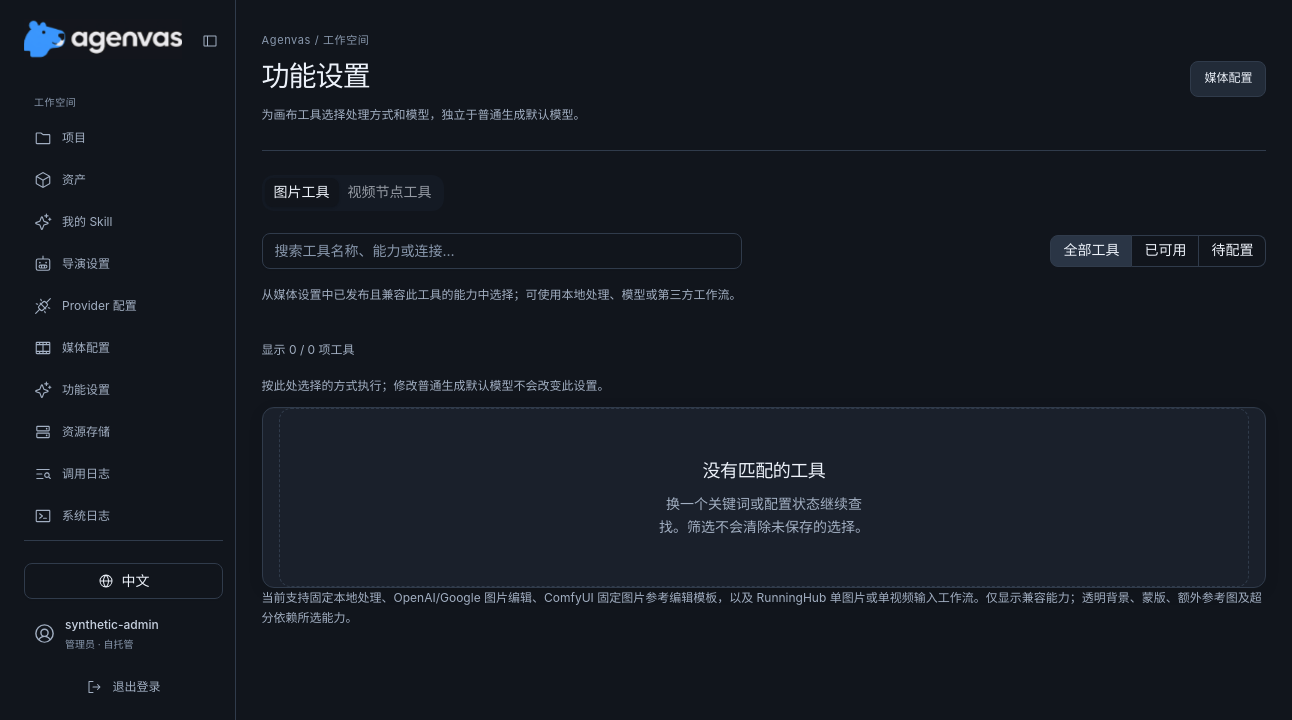
MediaFunctionSettingsPage › saves the compatible workflow with CAS independently of model defaults
Click the tab "视频节点工具" at (390, 193), box [339,178,441,207]
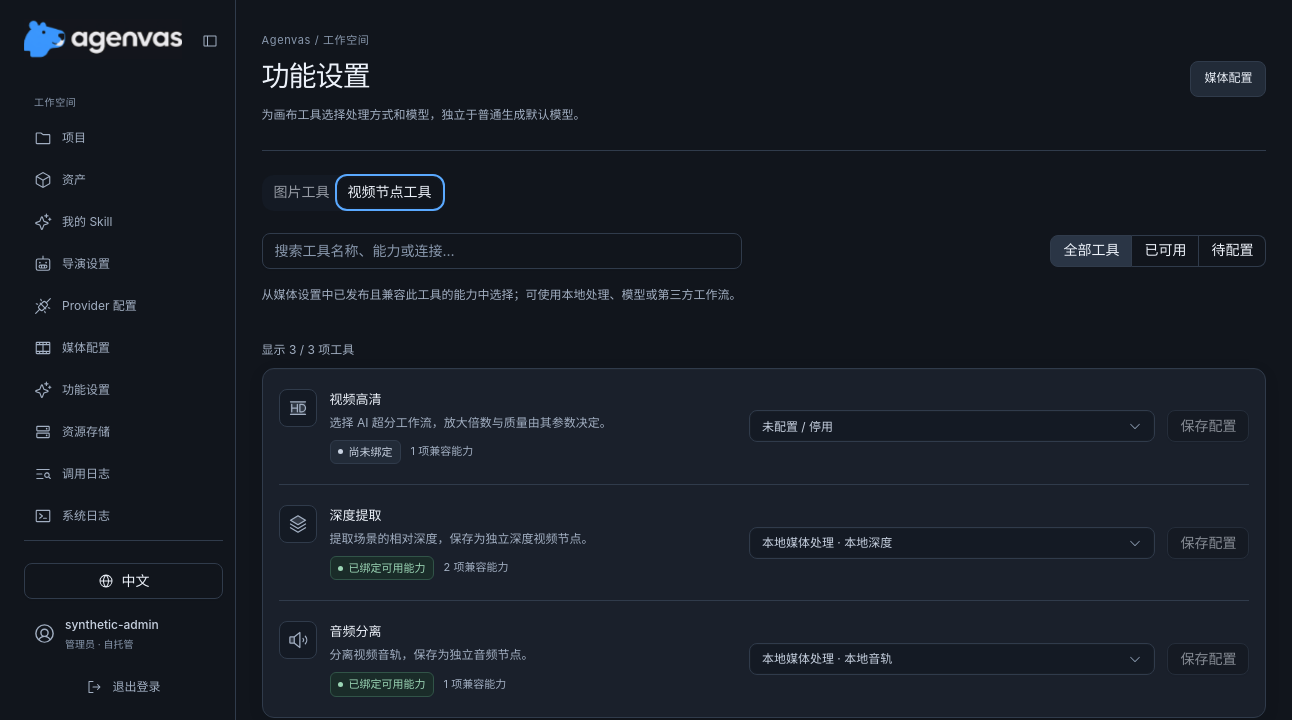
Click the dropdown labelled "未配置 / 停用" at (798, 426), box [749,410,1155,442]
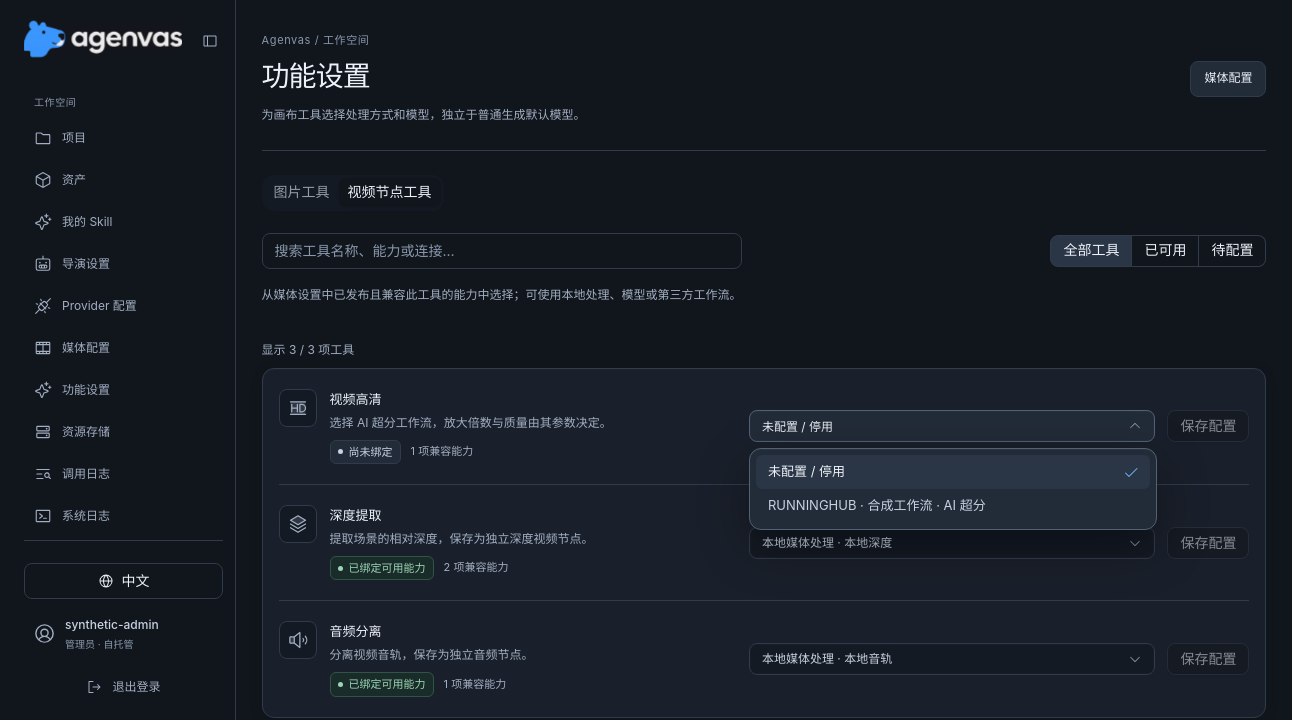
Click the option "RUNNINGHUB · 合成工作流 · AI 超分" at (877, 505), box [768,497,986,513]
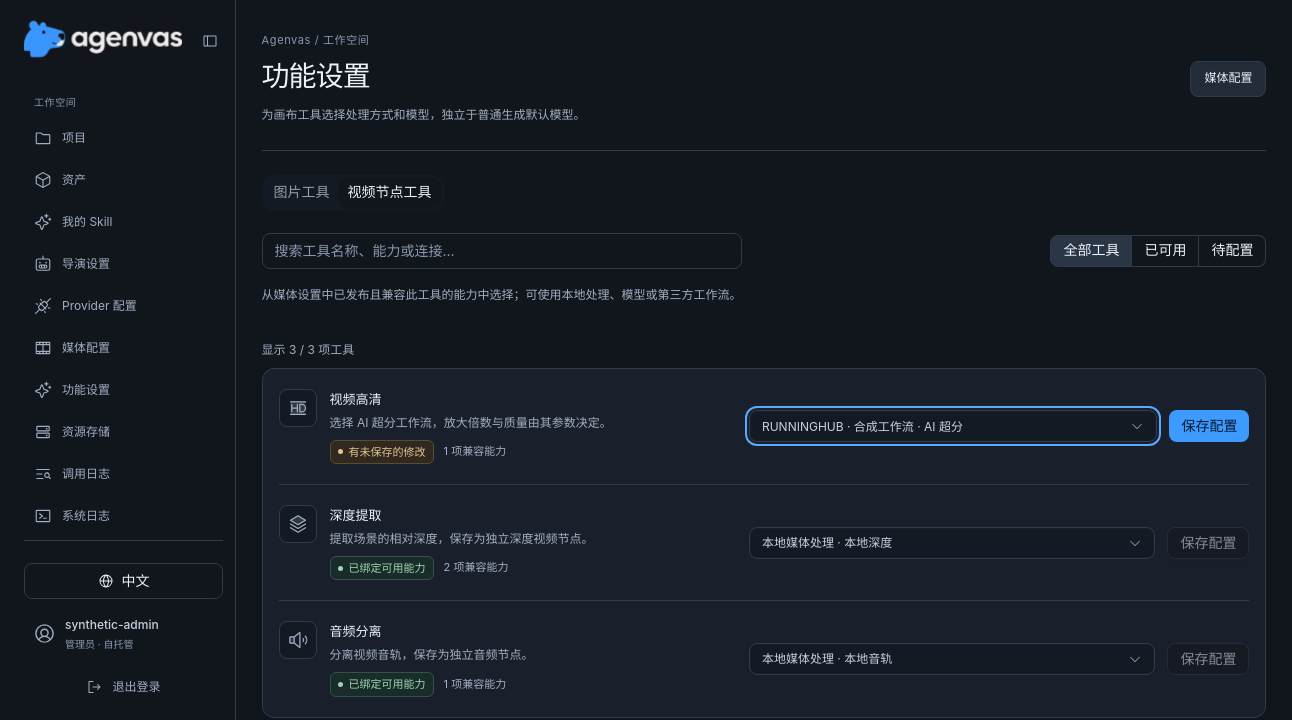
Click the button "保存配置" in the row of "选择 AI 超分工作流，放大倍数与质量由其参数决定。" at (1209, 426), box [1169,410,1249,442]
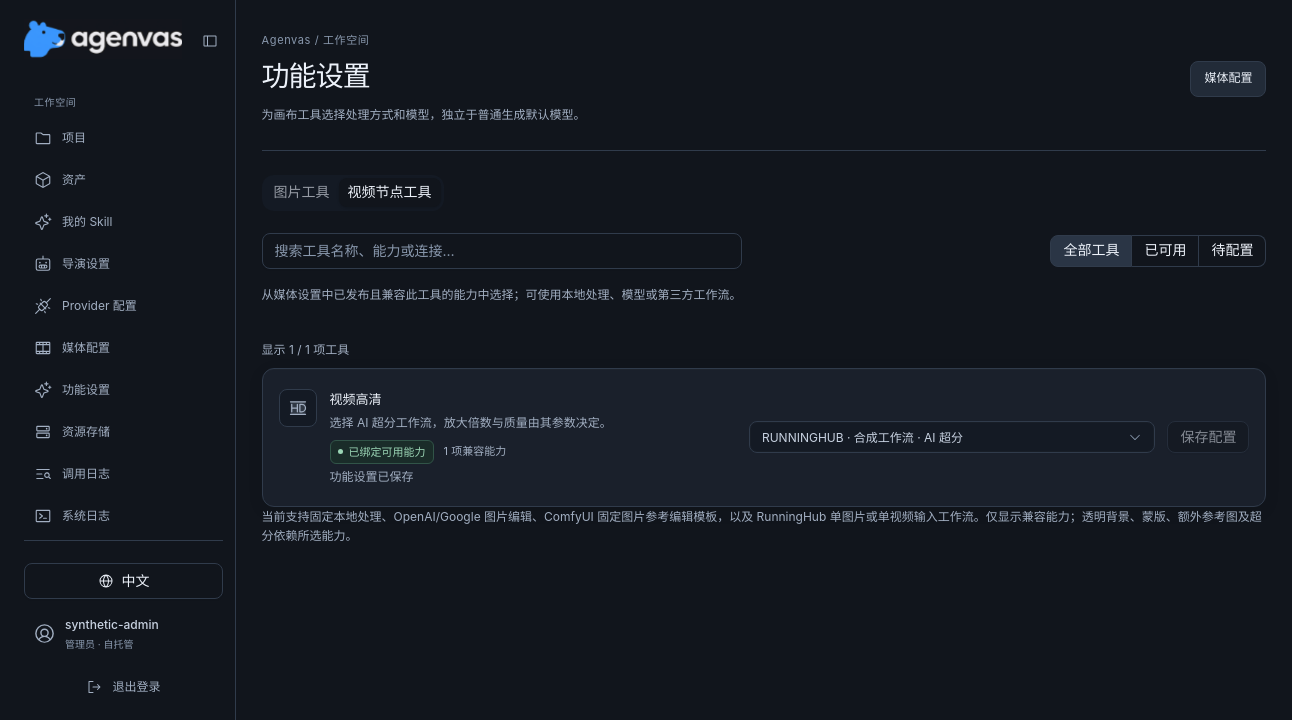
Expected: the message "功能设置已保存" is shown, [330,469,414,484]
